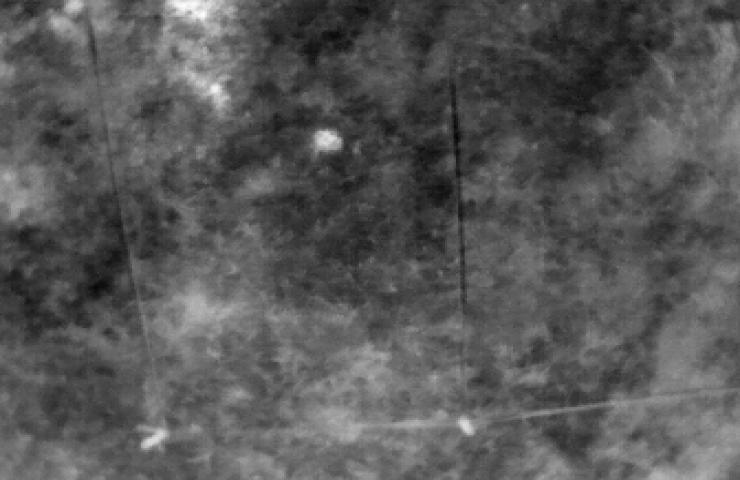landmines: (309, 127, 348, 158)
